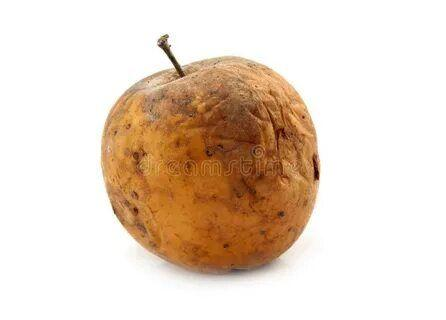Apple: (102, 56, 322, 274)
